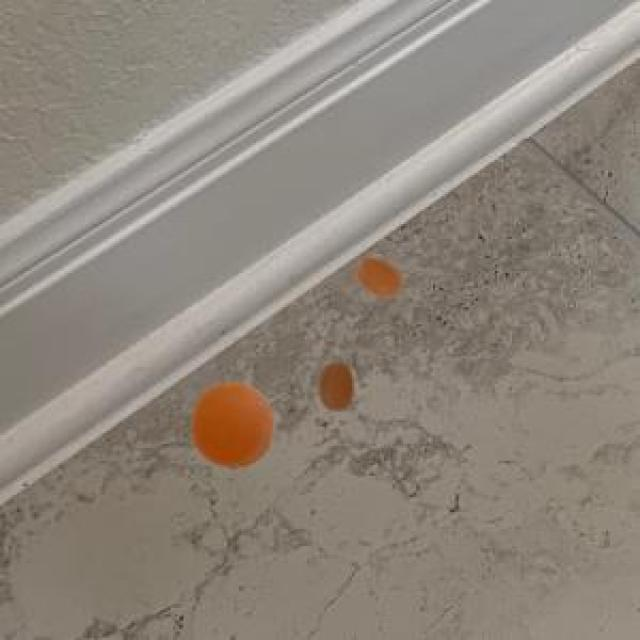Bactidol: (169, 364, 290, 474), (310, 348, 370, 421), (344, 245, 406, 306)
